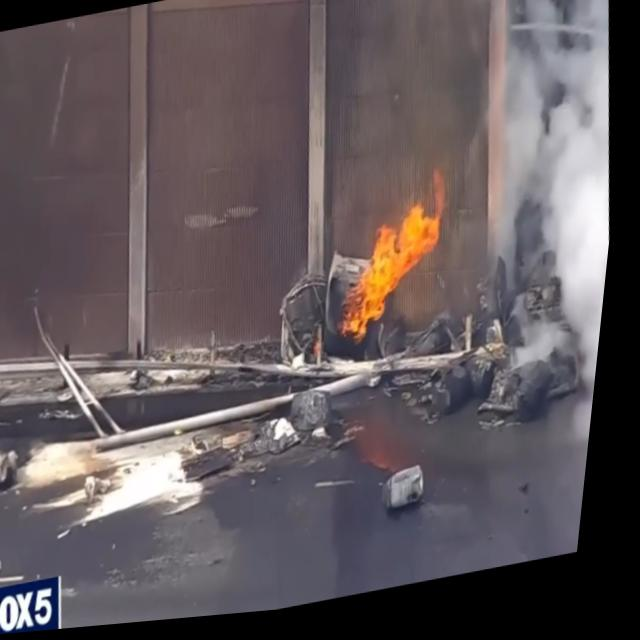Fire: (331, 168, 470, 354)
